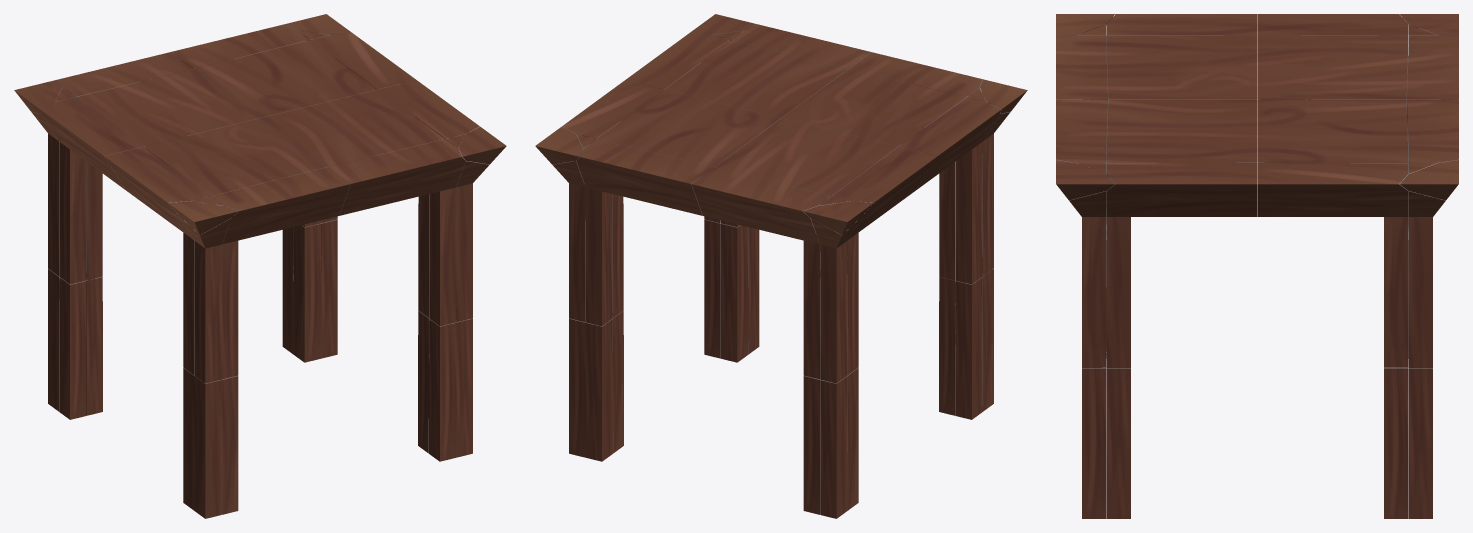
Rendered from mesaMed_gibs.fbx.
3 views of the same model, side by side, from view 1: azimuth 30°, elevation 25°; view 2: azimuth 150°, elevation 25°; view 3: azimuth 270°, elevation 25° (orthographic). The views are drawn at different scales.
Parts seen in each view (by area): view 1: mesinhaMed_cell.015, mesinhaMed_cell.026, mesinhaMed_cell.017, mesinhaMed_cell.006, mesinhaMed_cell.035, mesinhaMed_cell.008, mesinhaMed_cell.022, mesinhaMed_cell.004, mesinhaMed_cell.003, mesinhaMed_cell.020, mesinhaMed_cell, mesinhaMed_cell.016 (+19 smaller); view 2: mesinhaMed_cell.033, mesinhaMed_cell.008, mesinhaMed_cell.035, mesinhaMed_cell.024, mesinhaMed_cell.017, mesinhaMed_cell.026, mesinhaMed_cell.004, mesinhaMed_cell.022, mesinhaMed_cell.021, mesinhaMed_cell.002, mesinhaMed_cell.018, mesinhaMed_cell.034 (+19 smaller); view 3: mesinhaMed_cell.013, mesinhaMed_cell.031, mesinhaMed_cell.017, mesinhaMed_cell.035, mesinhaMed_cell.008, mesinhaMed_cell.026, mesinhaMed_cell.030, mesinhaMed_cell.012, mesinhaMed_cell.029, mesinhaMed_cell.011, mesinhaMed_cell.027, mesinhaMed_cell.009 (+10 smaller).
Boxes of the visible parts, x1,y1,x2,y2 form: mesinhaMed_cell.015: (327,139,465,326); mesinhaMed_cell.026: (75,69,259,280); mesinhaMed_cell.017: (261,89,444,317); mesinhaMed_cell.006: (211,167,350,379); mesinhaMed_cell.035: (194,40,376,227); mesinhaMed_cell.008: (144,118,326,196); mesinhaMed_cell.022: (41,97,142,284); mesinhaMed_cell.004: (104,147,209,375); mesinhaMed_cell.003: (177,196,230,383); mesinhaMed_cell.020: (59,277,86,419); mesinhaMed_cell: (194,376,221,518); mesinhaMed_cell.016: (429,319,456,461); mesinhaMed_cell.033: (576,139,714,326); mesinhaMed_cell.008: (782,69,966,280); mesinhaMed_cell.035: (597,89,781,317); mesinhaMed_cell.024: (691,167,830,379); mesinhaMed_cell.017: (665,40,847,226); mesinhaMed_cell.026: (715,118,897,196); mesinhaMed_cell.004: (899,97,1000,284); mesinhaMed_cell.022: (832,147,937,375); mesinhaMed_cell.021: (811,196,864,383); mesinhaMed_cell.002: (955,277,982,419); mesinhaMed_cell.018: (820,376,847,518); mesinhaMed_cell.034: (585,319,612,461); mesinhaMed_cell.013: (1106,163,1257,367); mesinhaMed_cell.031: (1257,163,1408,367); mesinhaMed_cell.017: (1106,99,1257,358); mesinhaMed_cell.035: (1257,99,1408,358); mesinhaMed_cell.008: (1106,35,1257,109); mesinhaMed_cell.026: (1257,35,1408,108); mesinhaMed_cell.030: (1408,163,1445,367); mesinhaMed_cell.012: (1069,163,1106,367); mesinhaMed_cell.029: (1384,367,1408,518); mesinhaMed_cell.011: (1106,368,1130,518); mesinhaMed_cell.027: (1408,368,1432,518); mesinhaMed_cell.009: (1082,367,1106,518).
Bounding box in the file's own units: 200 × 190 × 200.
1 material, 1 textured.
